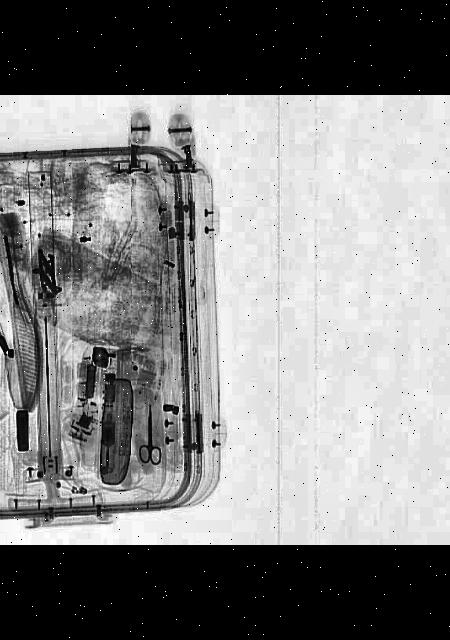Scissors: (139, 402, 163, 466)
